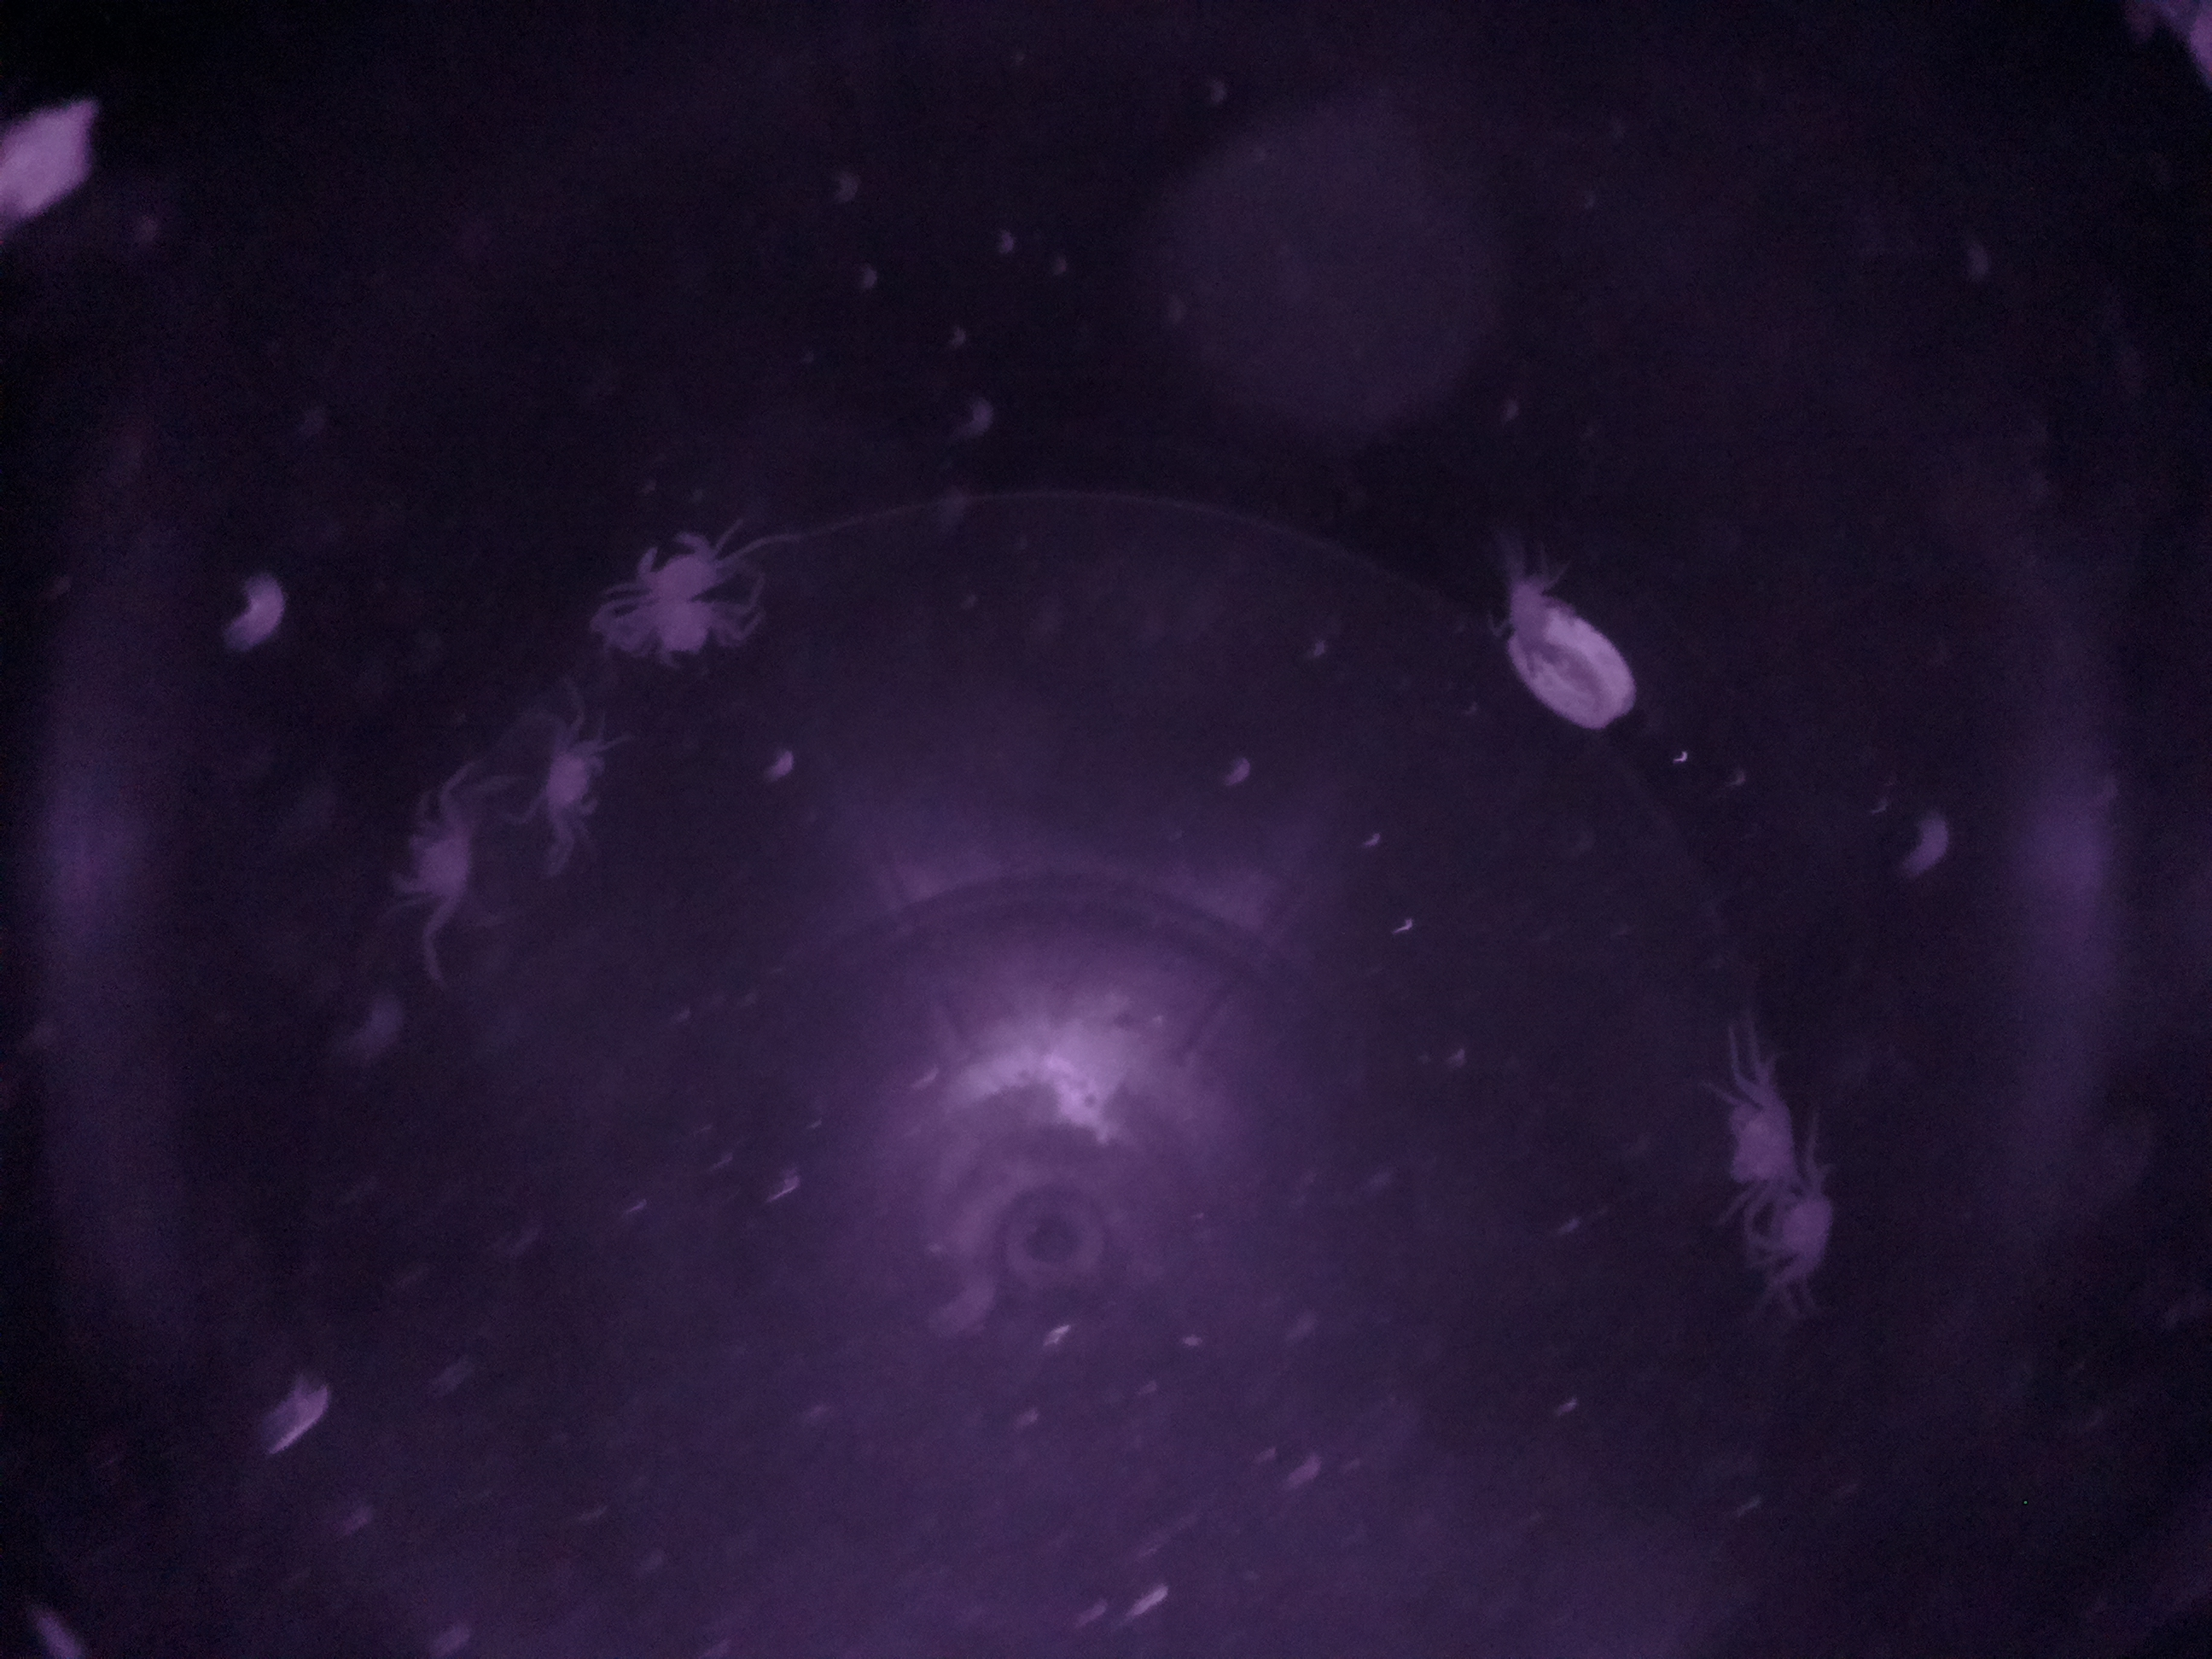Crab: (625, 507, 733, 619), (1710, 1073, 1804, 1201), (521, 725, 625, 831)
